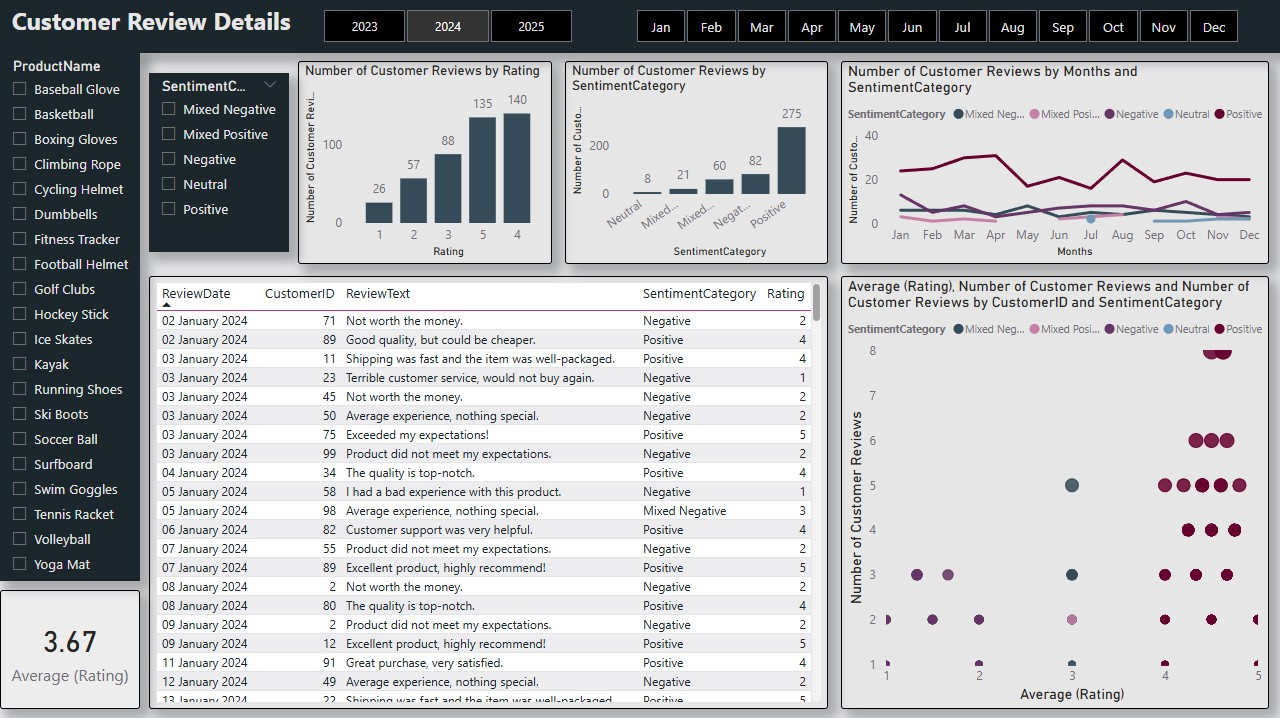

What the dashboard file says about the page in this screenshot:
{"tool":"powerbi","page":{"name":"Customer Review Details","canvas":[1280,720],"ordinal":3},"visuals":[{"type":"textbox","box":[0,0,1280,54.5],"z":0},{"type":"slicer","fields":{"Values":["dim_products.ProductName"]},"box":[0,54,140,528],"z":1000},{"type":"card","fields":{"Values":["_Calculations.Average (Rating)"]},"box":[0,591,140,119],"z":2000},{"type":"slicer","fields":{"Values":["Calendar.Year"]},"box":[298,4,298,46],"z":3000},{"type":"slicer","fields":{"Values":["Calendar.MonthNameShort"]},"box":[611,4,651,46],"z":4000},{"type":"clusteredColumnChart","fields":{"Y":["_Calculations.Number of Customer Reviews"],"Category":["fact_customer_reviews_with_sentiment.Rating"]},"box":[298,62,254,203],"z":5000},{"type":"clusteredColumnChart","fields":{"Y":["_Calculations.Number of Customer Reviews"],"Category":["fact_customer_reviews_with_sentiment.SentimentCategory"]},"box":[565,62,263,203],"z":6000},{"type":"lineChart","fields":{"Series":["fact_customer_reviews_with_sentiment.SentimentCategory"],"Category":["Calendar.MonthNameShort"],"Y":["_Calculations.Number of Customer Reviews"]},"box":[841,62,428,203],"z":7000},{"type":"tableEx","fields":{"Values":["fact_customer_reviews_with_sentiment.ReviewDate","fact_customer_reviews_with_sentiment.CustomerID","fact_customer_reviews_with_sentiment.ReviewText","fact_customer_reviews_with_sentiment.SentimentCategory","fact_customer_reviews_with_sentiment.Rating"]},"box":[149,277,679,433],"z":8000},{"type":"scatterChart","fields":{"X":["_Calculations.Average (Rating)"],"Y":["_Calculations.Number of Customer Reviews"],"Category":["dim_customers.CustomerID"],"Series":["fact_customer_reviews_with_sentiment.SentimentCategory"],"Size":["_Calculations.Number of Customer Reviews"]},"box":[841,277,428,433],"z":9000},{"type":"slicer","fields":{"Values":["fact_customer_reviews_with_sentiment.SentimentCategory"]},"box":[149,74,140,179],"z":9001}]}

Visuals, with their boxes in screenshot pixels (x1, y1, x2, y2), scaled from the page's 1280x720 canvas onto the 1280x718 screenshot:
textbox: (left=0, top=0, right=1279, bottom=54)
slicer - dim_products.ProductName: (left=0, top=54, right=140, bottom=580)
card - _Calculations.Average (Rating): (left=0, top=589, right=140, bottom=708)
slicer - Calendar.Year: (left=298, top=4, right=596, bottom=50)
slicer - Calendar.MonthNameShort: (left=611, top=4, right=1262, bottom=50)
clusteredColumnChart - _Calculations.Number of Customer Reviews x fact_customer_reviews_with_sentiment.Rating: (left=298, top=62, right=552, bottom=264)
clusteredColumnChart - _Calculations.Number of Customer Reviews x fact_customer_reviews_with_sentiment.SentimentCategory: (left=565, top=62, right=828, bottom=264)
lineChart - fact_customer_reviews_with_sentiment.SentimentCategory x Calendar.MonthNameShort: (left=841, top=62, right=1269, bottom=264)
tableEx - fact_customer_reviews_with_sentiment.ReviewDate x fact_customer_reviews_with_sentiment.CustomerID: (left=149, top=276, right=828, bottom=708)
scatterChart - _Calculations.Average (Rating) x _Calculations.Number of Customer Reviews: (left=841, top=276, right=1269, bottom=708)
slicer - fact_customer_reviews_with_sentiment.SentimentCategory: (left=149, top=74, right=289, bottom=252)
